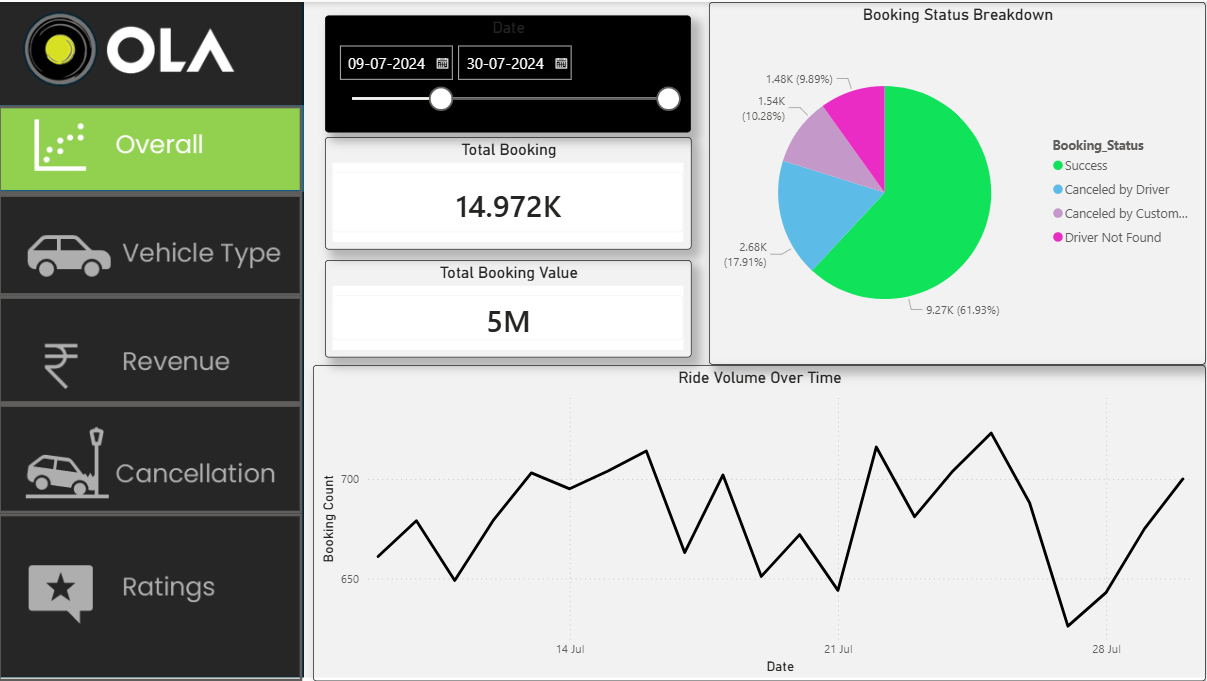

Layout of this report page (visuals, bound fields, positions):
{"tool":"powerbi","page":{"name":"Overall","canvas":[1280,720],"ordinal":0},"visuals":[{"type":"actionButton","box":[0,109.8,322.9,93.8],"z":0},{"type":"actionButton","box":[0,203.6,322.9,108.2],"z":1000},{"type":"actionButton","box":[0,311.8,322.9,114.5],"z":2000},{"type":"actionButton","box":[0,426.3,322.9,116.1],"z":3000},{"type":"actionButton","box":[0,542.4,322.9,178.1],"z":4000},{"type":"lineChart","title":"Ride Volume Over Time","fields":{"Y":["CountNonNull(July.Booking_ID)"],"Category":["July.Date"]},"box":[333.6,384.4,946.4,335.6],"z":5000},{"type":"pieChart","title":"Booking Status Breakdown","fields":{"Y":["CountNonNull(July.Booking_Status)"],"Category":["July.Booking_Status"]},"box":[753.9,0,526.5,384.9],"z":6000},{"type":"slicer","title":"Date","fields":{"Values":["July.Date"]},"box":[346.8,14.3,388.1,124.1],"z":7000},{"type":"cardVisual","title":"Total Booking","fields":{"Data":["CountNonNull(July.Booking_ID)"]},"box":[346.6,143.4,388.4,119.5],"z":8000},{"type":"cardVisual","title":"Total Booking Value","fields":{"Data":["Sum(July.Booking_Value)"]},"box":[346.6,272.9,388.4,103.6],"z":9000}]}

Visuals, with their boxes in screenshot pixels (x1, y1, x2, y2), scaled from the page's 1280x720 canvas onto the 1207x681 screenshot:
actionButton: [0, 104, 304, 193]
actionButton: [0, 193, 304, 295]
actionButton: [0, 295, 304, 403]
actionButton: [0, 403, 304, 513]
actionButton: [0, 513, 304, 680]
"Ride Volume Over Time" lineChart: [315, 364, 1206, 680]
"Booking Status Breakdown" pieChart: [711, 0, 1206, 364]
"Date" slicer: [327, 14, 693, 131]
"Total Booking" cardVisual: [327, 136, 693, 249]
"Total Booking Value" cardVisual: [327, 258, 693, 356]
